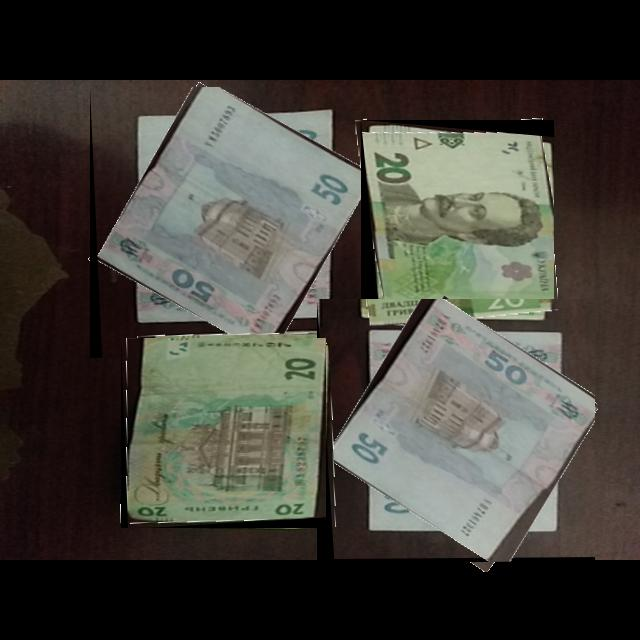20uah: (363, 133, 555, 327), (126, 338, 327, 521)
50uah: (97, 87, 368, 353), (326, 299, 596, 563)
